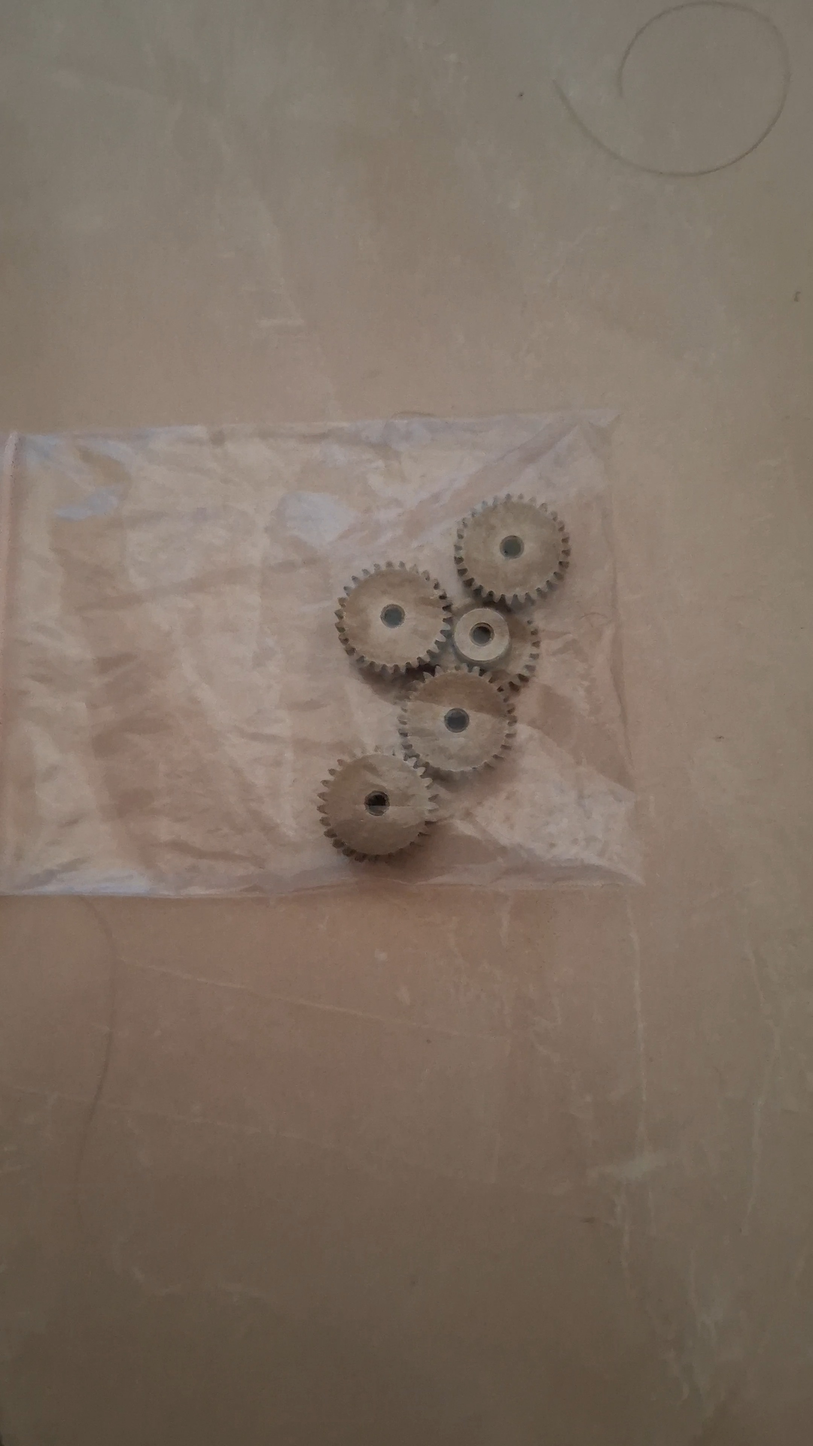spur gear: (455, 494, 570, 607), (336, 563, 450, 676), (399, 665, 516, 775), (318, 752, 436, 860), (444, 602, 540, 688)
